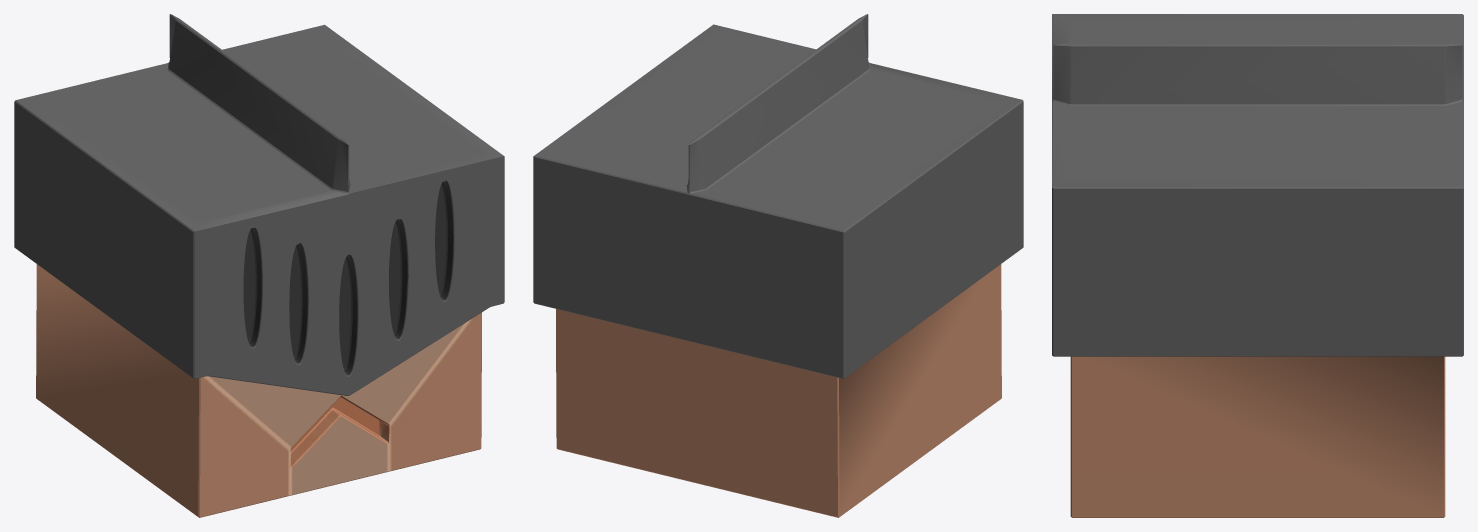
The model's file is Player.fbx.
The picture shows the model from 3 angles, left to right: view 1: azimuth 30°, elevation 25°; view 2: azimuth 150°, elevation 25°; view 3: azimuth 270°, elevation 25°; orthographic projection. The views are drawn at different scales.
Visible parts, largest first — view 1: Box001; view 2: Box001; view 3: Box001.
Part boxes in pixels (left/top/right/bottom): Box001: left=14, top=14, right=504, bottom=517; Box001: left=533, top=14, right=1023, bottom=517; Box001: left=1052, top=14, right=1463, bottom=517.
Bounding box in the file's own units: 66 × 66 × 70.
Materials: 1 (1 with a texture image).
